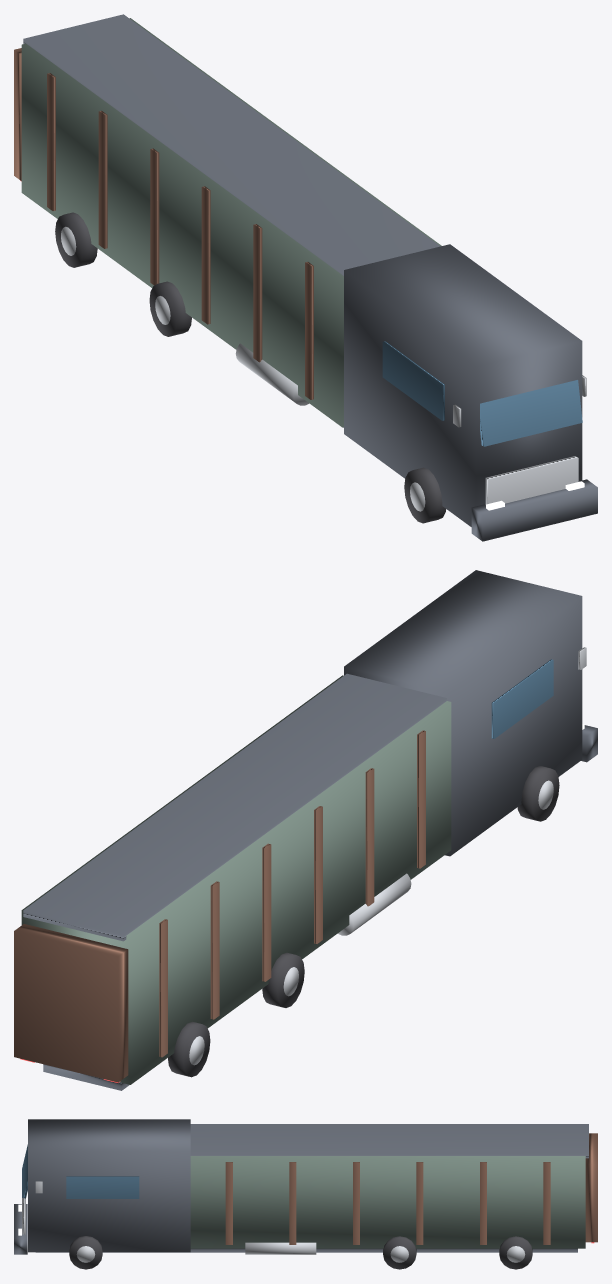
File: truck.glb
The picture shows the model from 3 angles, top to bottom: view 1: azimuth 30°, elevation 25°; view 2: azimuth 150°, elevation 25°; view 3: azimuth 270°, elevation 25°; orthographic projection. The views are drawn at different scales.
Visible parts, largest first — view 1: Compactor_Dump_Body, Driver_Cab_Block, Roof_Catwalk, Windshield, Front_Bumper, Chrome_Grille, SideWindow_L, Wheel_0_L, Wheel_2_L, Wheel_1_L, Dump_Rib_4_L, Dump_Rib_2_L (+6 smaller); view 2: Compactor_Dump_Body, Roof_Catwalk, Driver_Cab_Block, Rear_Hopper_Door, SideWindow_L, Wheel_0_L, Wheel_2_L, Wheel_1_L, Dump_Rib_3_L, Dump_Rib_4_L, Dump_Rib_1_L, HydraulicTank_L (+4 smaller); view 3: Compactor_Dump_Body, Driver_Cab_Block, Roof_Catwalk, SideWindow_R, Chassis_Beams, Rear_Hopper_Door, HydraulicTank_R, Wheel_0_R, Wheel_2_R, Wheel_1_R, Dump_Rib_0_R, Dump_Rib_1_R (+9 smaller).
Boxes of the visible parts, <box> form: Compactor_Dump_Body: <box>21,18,441,427</box>; Driver_Cab_Block: <box>344,244,582,526</box>; Roof_Catwalk: <box>23,14,440,275</box>; Windshield: <box>480,380,582,446</box>; Front_Bumper: <box>471,479,597,541</box>; Chrome_Grille: <box>485,456,578,504</box>; SideWindow_L: <box>382,341,444,420</box>; Wheel_0_L: <box>404,467,446,523</box>; Wheel_2_L: <box>55,212,97,267</box>; Wheel_1_L: <box>149,281,191,336</box>; Dump_Rib_4_L: <box>98,110,107,248</box>; Dump_Rib_2_L: <box>201,186,210,324</box>; Compactor_Dump_Body: <box>21,675,451,1084</box>; Roof_Catwalk: <box>23,673,446,941</box>; Driver_Cab_Block: <box>344,570,582,856</box>; Rear_Hopper_Door: <box>14,924,128,1082</box>; SideWindow_L: <box>491,659,553,738</box>; Wheel_0_L: <box>517,766,559,821</box>; Wheel_2_L: <box>168,1021,210,1077</box>; Wheel_1_L: <box>262,952,304,1007</box>; Dump_Rib_3_L: <box>262,843,271,981</box>; Dump_Rib_4_L: <box>210,881,219,1019</box>; Dump_Rib_1_L: <box>365,768,374,906</box>; HydraulicTank_L: <box>338,873,411,935</box>; Compactor_Dump_Body: <box>190,1156,585,1248</box>; Driver_Cab_Block: <box>28,1119,190,1252</box>; Roof_Catwalk: <box>190,1124,588,1158</box>; SideWindow_R: <box>66,1176,139,1198</box>; Chassis_Beams: <box>36,1248,577,1252</box>; Rear_Hopper_Door: <box>585,1133,597,1242</box>; HydraulicTank_R: <box>245,1242,316,1254</box>; Wheel_0_R: <box>69,1236,102,1269</box>; Wheel_2_R: <box>499,1236,532,1269</box>; Wheel_1_R: <box>383,1236,416,1269</box>; Dump_Rib_0_R: <box>225,1162,232,1244</box>; Dump_Rib_1_R: <box>289,1162,296,1244</box>.
Size of the model in its own units: 2.84 by 3.93 by 18.09.
